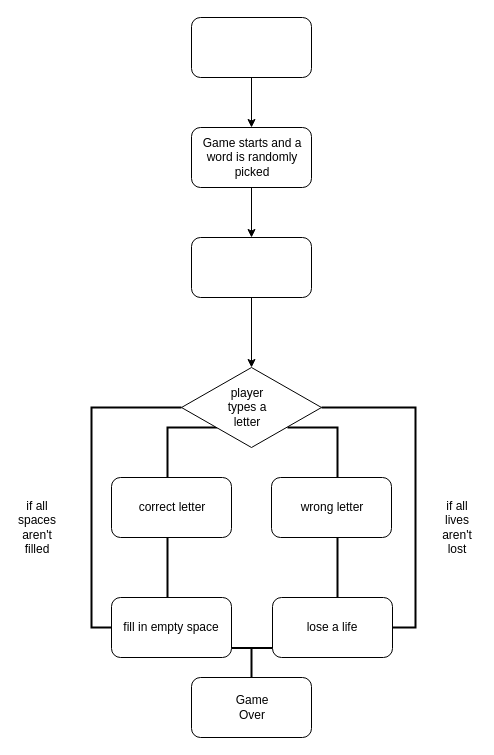
The diagram is 494 pixels wide and 755 high, and some of its shapes have lost their labels. Here are the shapes that lost their labels. From the top down, the centre of each, then its label:
the point at 251,47: Start
the point at 251,267: generate enough blank spaces as there are # of letters in word
